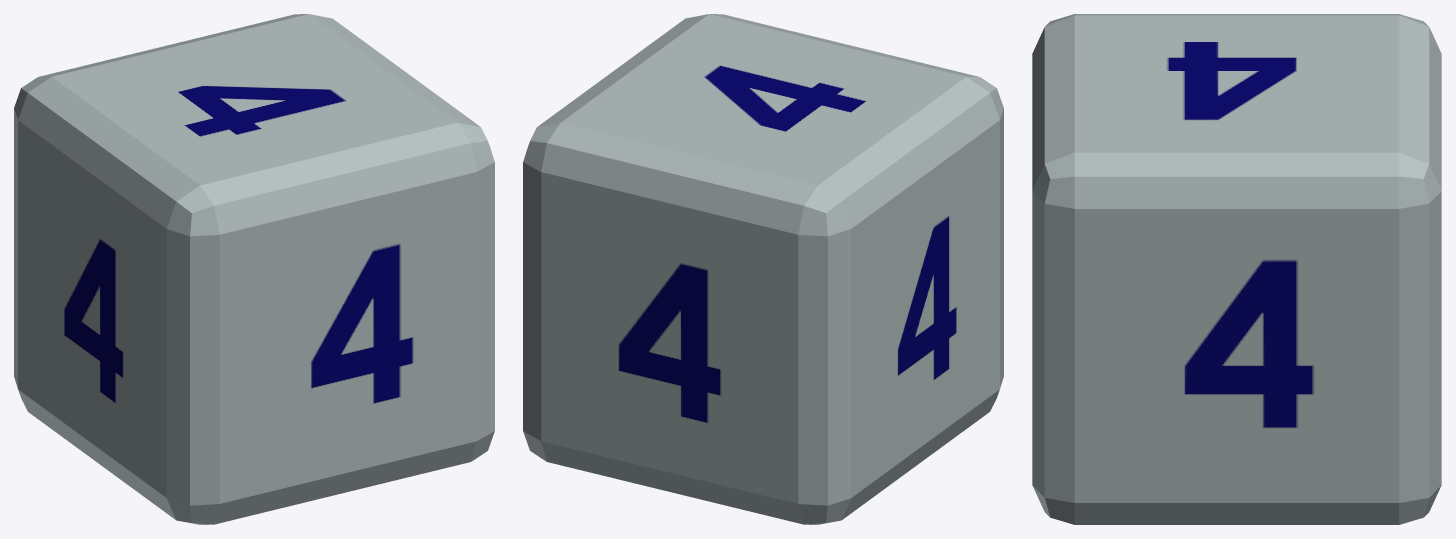
File: cubeFour.glb
3 views of the same model, side by side, from view 1: azimuth 30°, elevation 25°; view 2: azimuth 150°, elevation 25°; view 3: azimuth 270°, elevation 25° (orthographic). The views are drawn at different scales.
Parts seen in each view (by area): view 1: Cube; view 2: Cube; view 3: Cube.
Part boxes in pixels (x1,y1,x2,y2): Cube: (14,14,494,524); Cube: (523,14,1003,524); Cube: (1032,14,1441,524).
Size of the model in its own units: 2 by 2 by 2.
Materials: 1 (1 with a texture image).
